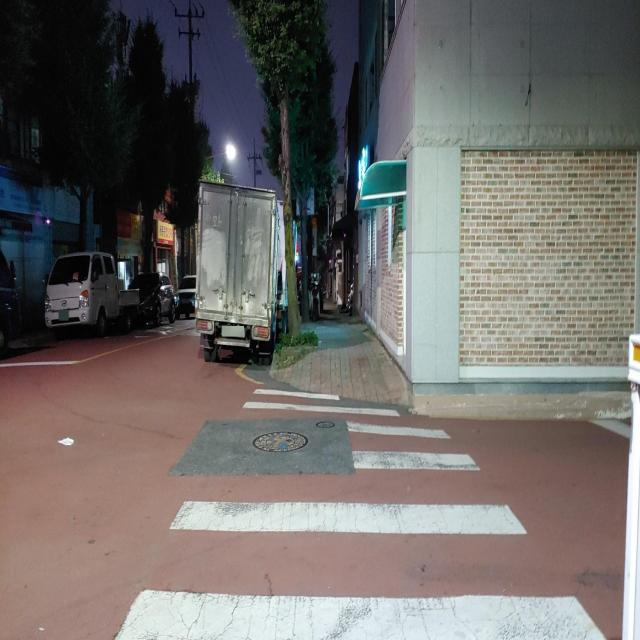횡단보도: (113, 385, 608, 640)
